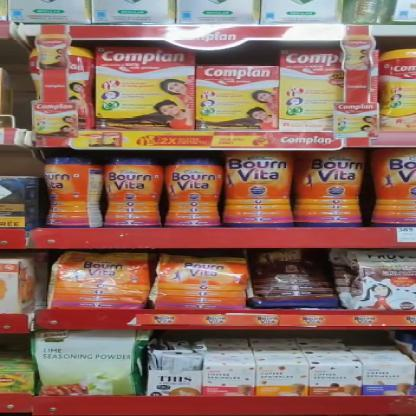Complan Kesar Badam: (278, 50, 342, 130)
Complan Royal Chocolate: (97, 46, 194, 130), (192, 65, 280, 129)
